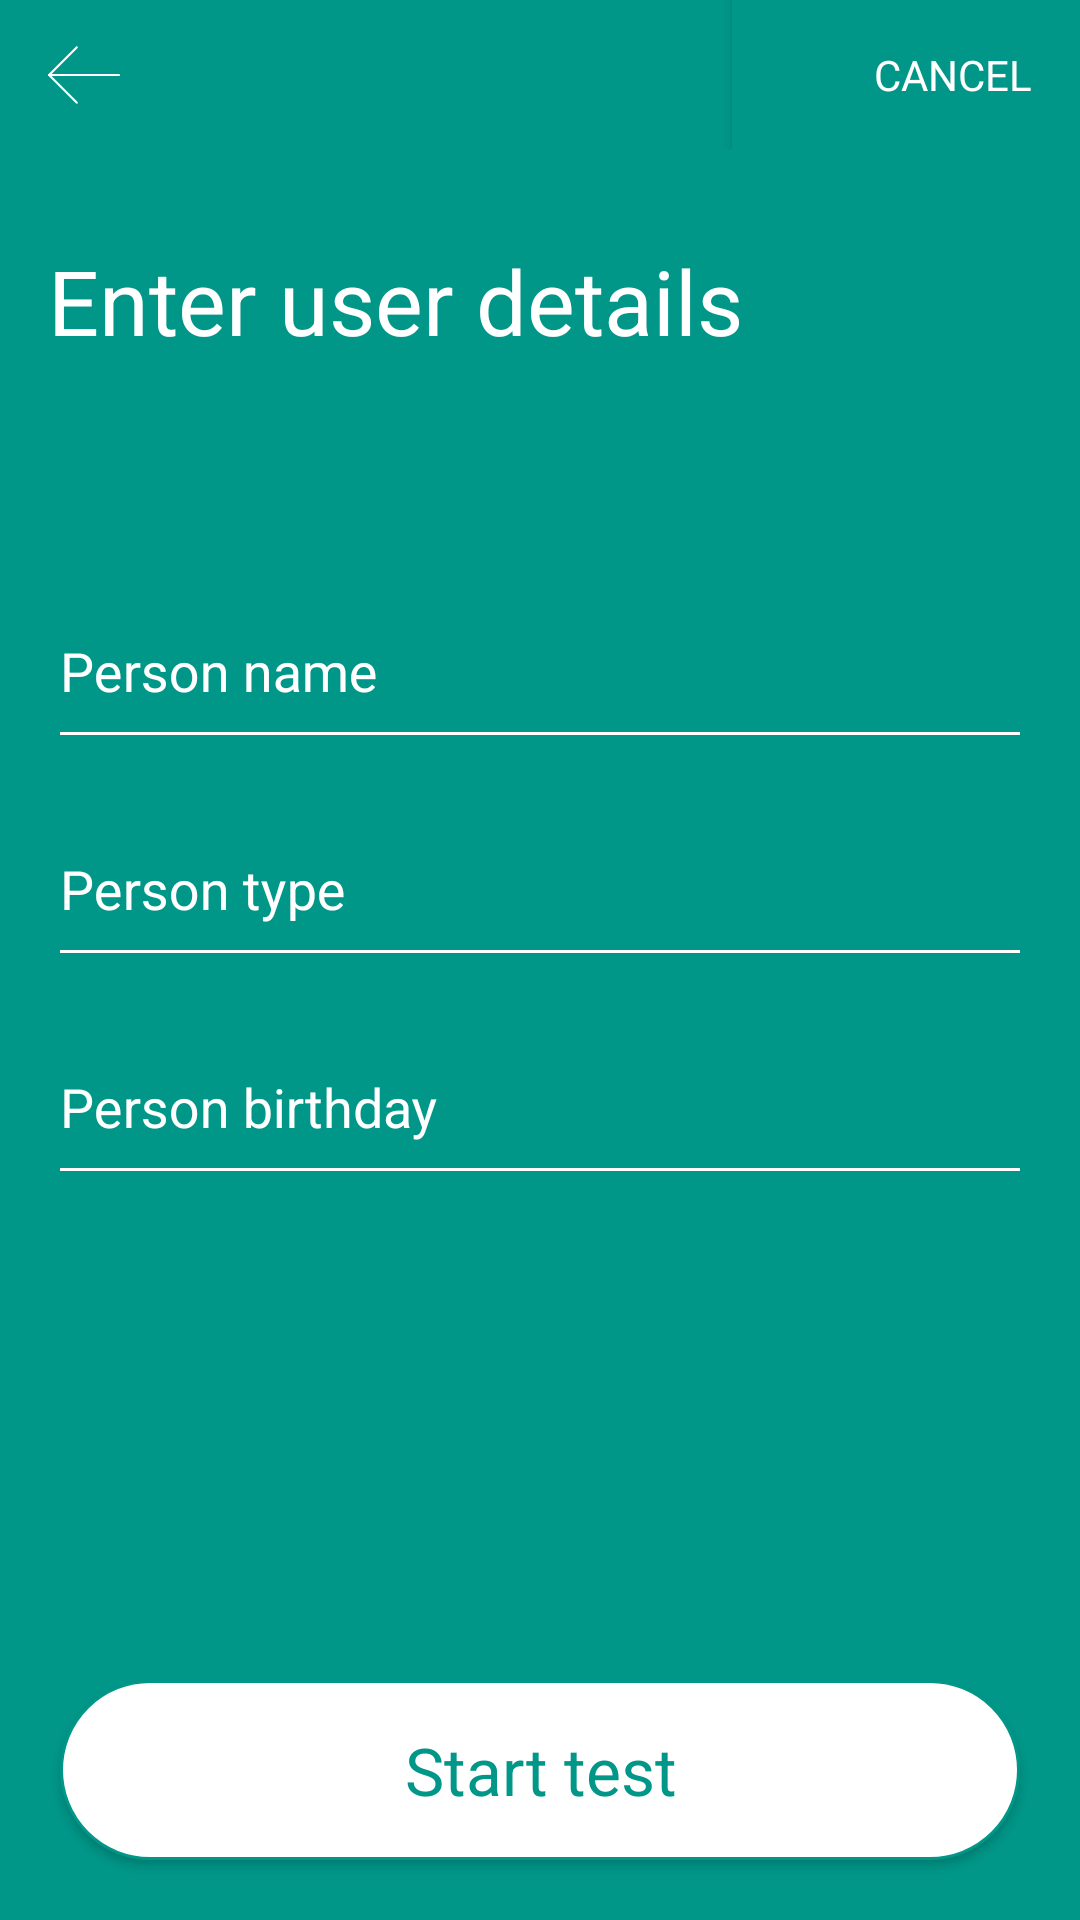

Icons on this 1080px×1920px Android screen, each with its box as (x1, y1, x2, y2):
back: (48, 46, 120, 104)
